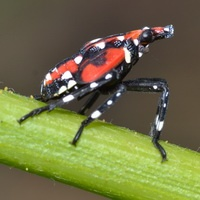insect: (18, 25, 173, 160)
